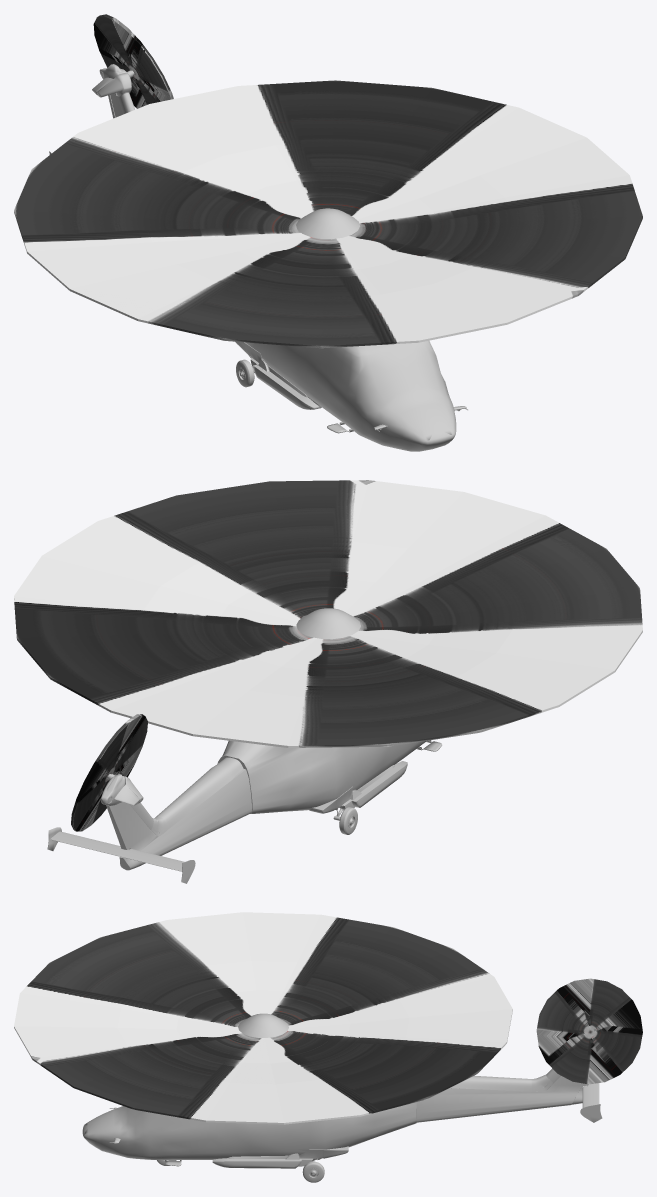
3 renders of one model, top to bottom at view 1: azimuth 30°, elevation 25°; view 2: azimuth 150°, elevation 25°; view 3: azimuth 270°, elevation 25°, orthographic. The views are drawn at different scales.
Visible parts, largest first — view 1: AC352_JY_1, AC352_D, AC352_JY_2; view 2: AC352_JY_1, AC352_D, AC352_JY_2; view 3: AC352_JY_1, AC352_D, AC352_JY_2.
Boxes of the visible parts, x1,y1,x2,y2 form: AC352_JY_1: (14, 80, 642, 348); AC352_D: (49, 64, 467, 451); AC352_JY_2: (93, 14, 173, 108); AC352_JY_1: (14, 480, 642, 747); AC352_D: (47, 608, 441, 883); AC352_JY_2: (71, 714, 147, 831); AC352_JY_1: (14, 912, 512, 1124); AC352_D: (82, 1013, 602, 1182); AC352_JY_2: (536, 978, 642, 1084).
Size of the model in its own units: 14.56 by 5.86 by 18.36.
